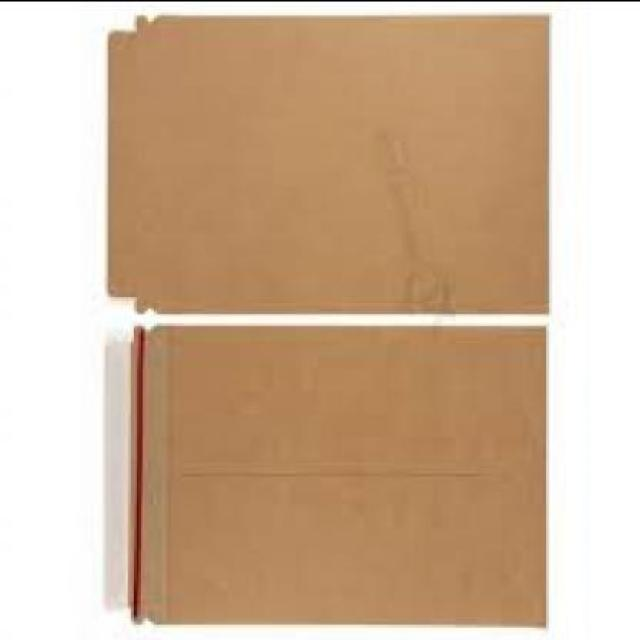CARDBOARD: (102, 14, 548, 318), (97, 327, 543, 628)
